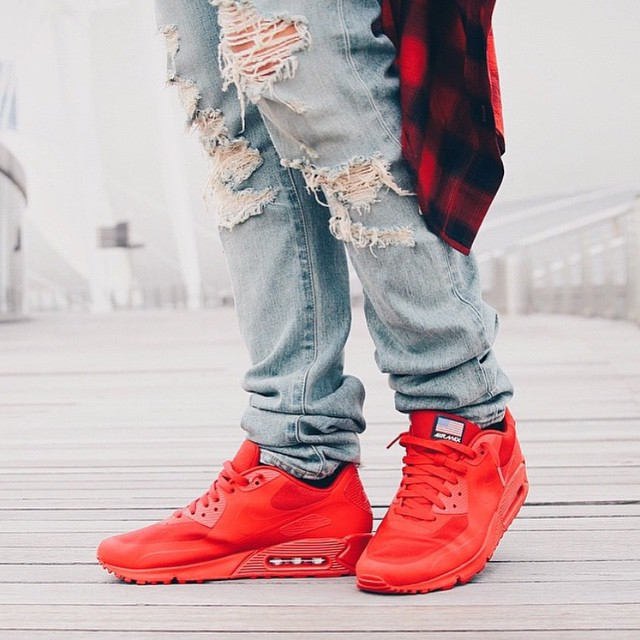sneaker: (83, 420, 382, 596), (342, 391, 545, 604)
